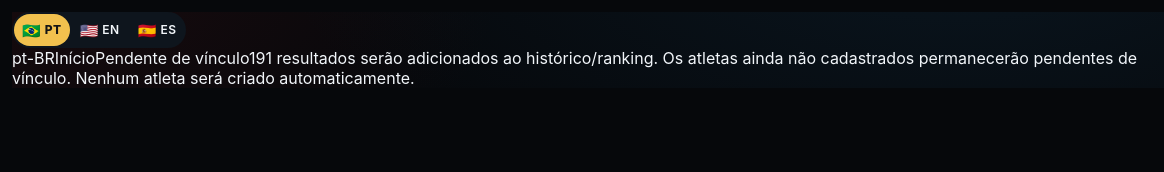
it: trocar de idioma, e voltar › pt-BR → en → es → pt-BR, sem recarregar e sem sair da sessão
Expected: the text with test id "inicio" reads "Início", [55,48,95,68]
Step 1. Click the button with aria-label "English" → (100, 30), box [72,14,128,46]
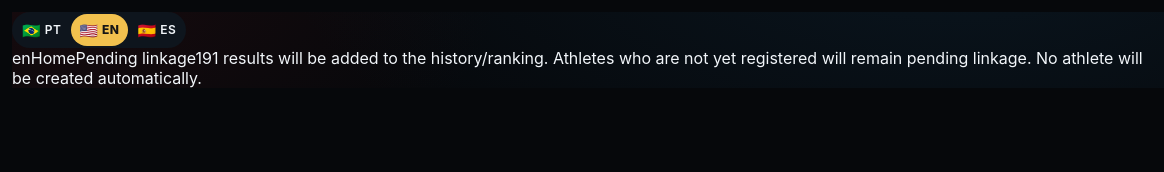
Now the text with test id "idioma" reads "en", box [12,48,31,68]
Now the text with test id "inicio" reads "Home", box [31,48,76,68]
Now the text with test id "pendente" reads "Pending linkage", box [76,48,196,68]
Step 2. Click the button with aria-label "Español" → (157, 30), box [130,14,184,46]
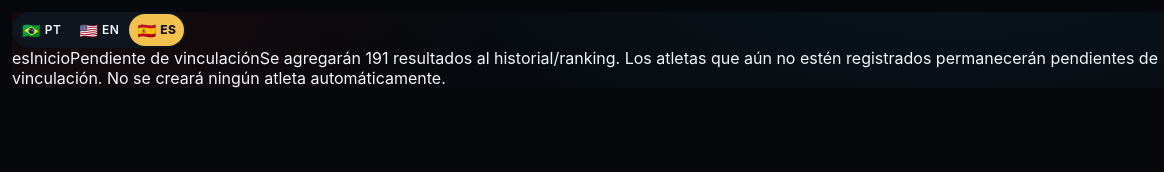
Now the text with test id "idioma" reads "es", box [12,48,30,68]
Now the text with test id "inicio" reads "Inicio", box [30,48,70,68]
Now the text with test id "pendente" reads "Pendiente de vinculación", box [70,48,260,68]
Step 3. Click the button with aria-label "Português" → (42, 30), box [14,14,69,46]
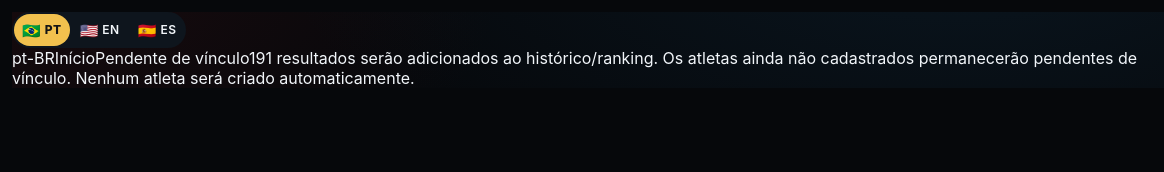
Now the text with test id "idioma" reads "pt-BR", box [12,48,55,68]
Now the text with test id "inicio" reads "Início", box [55,48,95,68]
Now the text with test id "pendente" reads "Pendente de vínculo", box [95,48,249,68]
